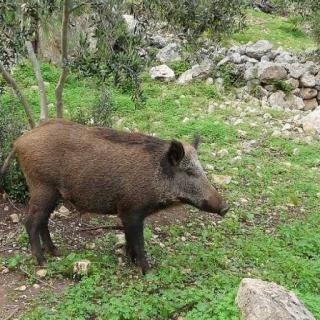Pig: (0, 99, 255, 302)
